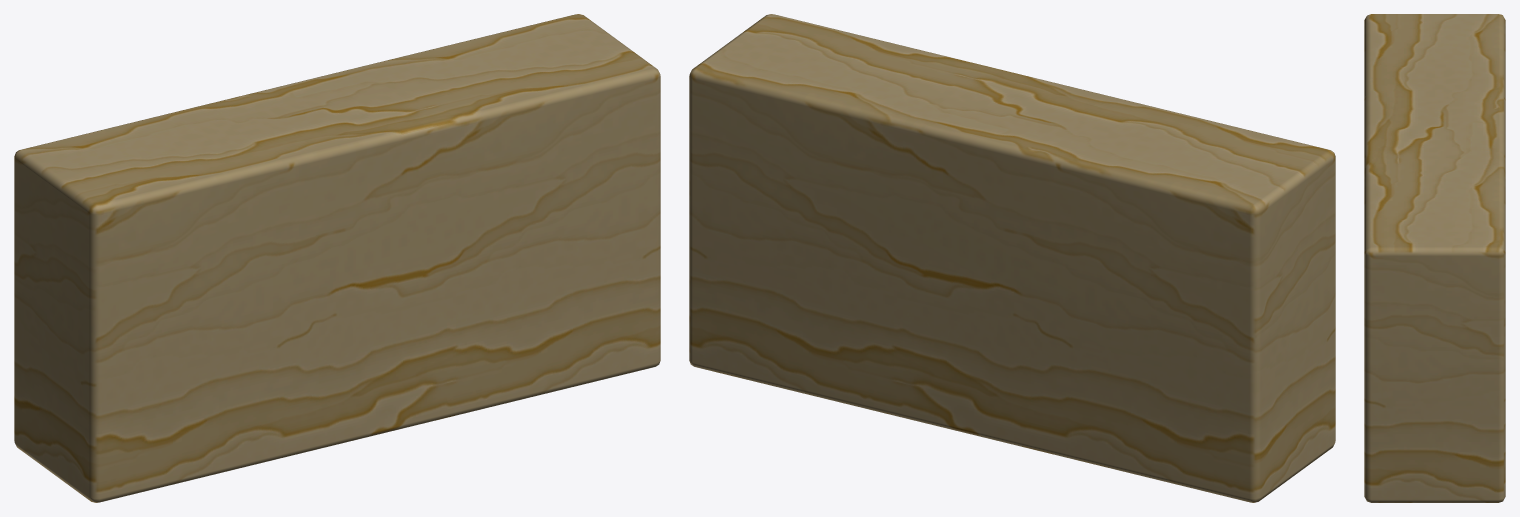
Rendered from SM_Platform_1m_03_D.glb.
The picture shows the model from 3 angles, left to right: view 1: azimuth 30°, elevation 25°; view 2: azimuth 150°, elevation 25°; view 3: azimuth 270°, elevation 25°; orthographic projection. The views are drawn at different scales.
Parts seen in each view (by area): view 1: SM_Platform_1m_03_D; view 2: SM_Platform_1m_03_D; view 3: SM_Platform_1m_03_D.
Part boxes in pixels (box(x1,y1,x2,y2)): SM_Platform_1m_03_D: box(14, 14, 660, 502); SM_Platform_1m_03_D: box(689, 14, 1335, 502); SM_Platform_1m_03_D: box(1364, 14, 1505, 502).
Size of the model in its own units: 4 by 2 by 1.
Materials: 1 (1 with a texture image).
